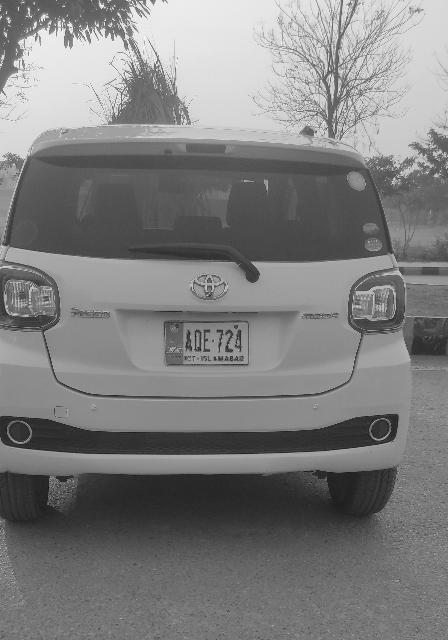Number: (187, 330, 245, 358)
